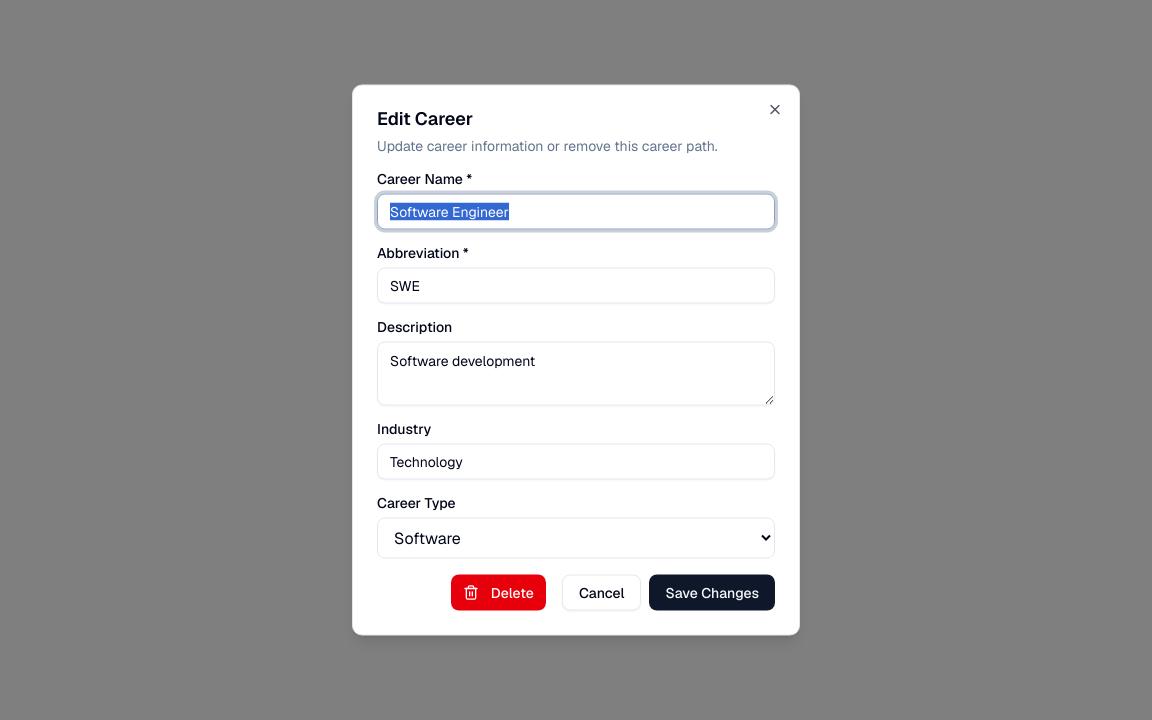
Test case: CareerEditPopup › handles save errors
The width and height of the screenshot is (1152, 720).
Click the button "Save Changes".
click(712, 592)  # box [649,574,775,610]
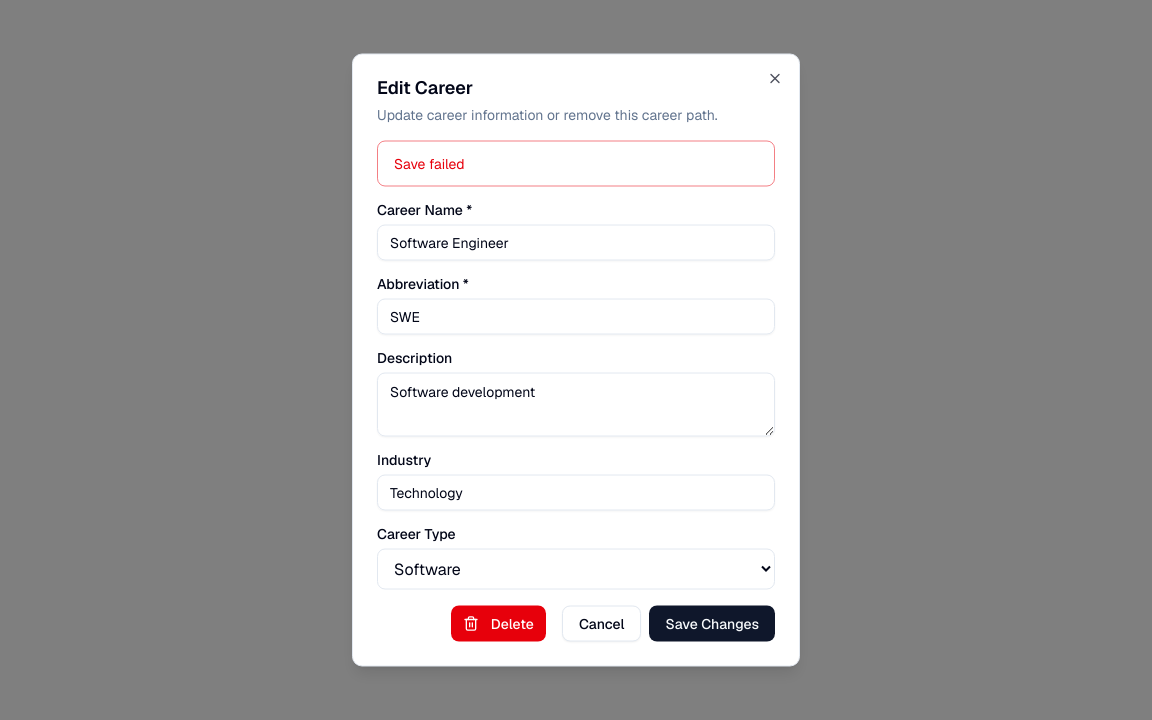
Now the text "Save failed" is shown, box [394,154,465,172]
